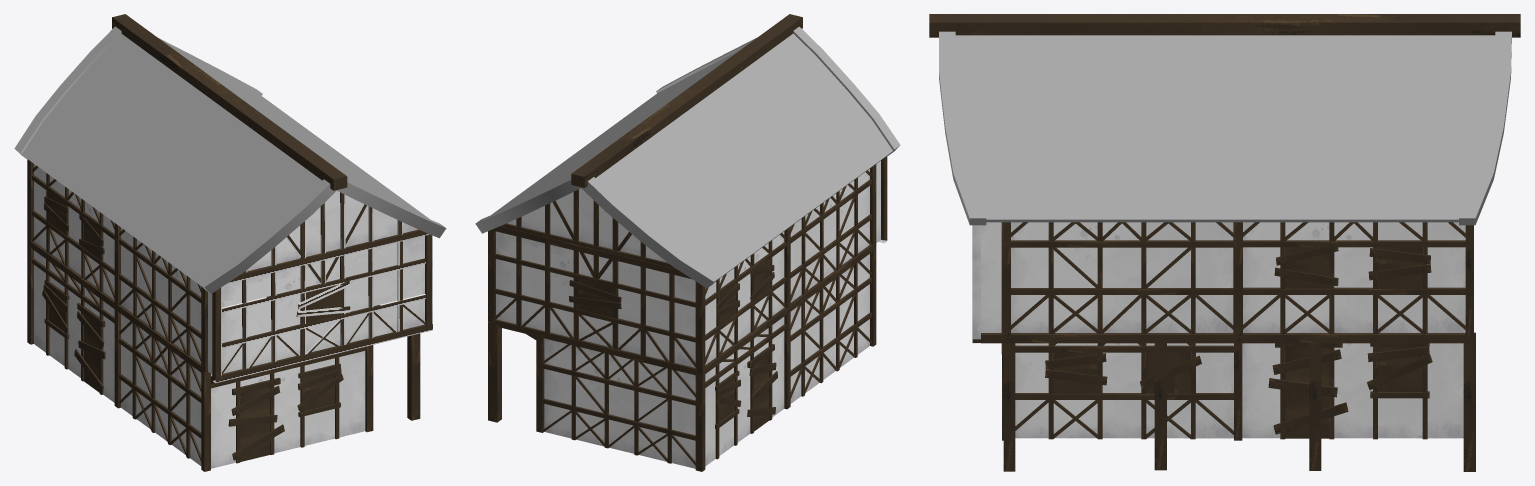
Rendered from SM_House_Little_01.fbx.
3 renders of one model, left to right at view 1: azimuth 30°, elevation 25°; view 2: azimuth 150°, elevation 25°; view 3: azimuth 270°, elevation 25°, orthographic. The views are drawn at different scales.
Parts seen in each view (by area): view 1: SM_House_Little_01; view 2: SM_House_Little_01; view 3: SM_House_Little_01.
Boxes of the visible parts, bbox=[...] form: SM_House_Little_01: bbox=[14, 14, 446, 471]; SM_House_Little_01: bbox=[475, 14, 900, 471]; SM_House_Little_01: bbox=[929, 14, 1520, 471].
Bounding box in the file's own units: 668 × 758 × 1059.
